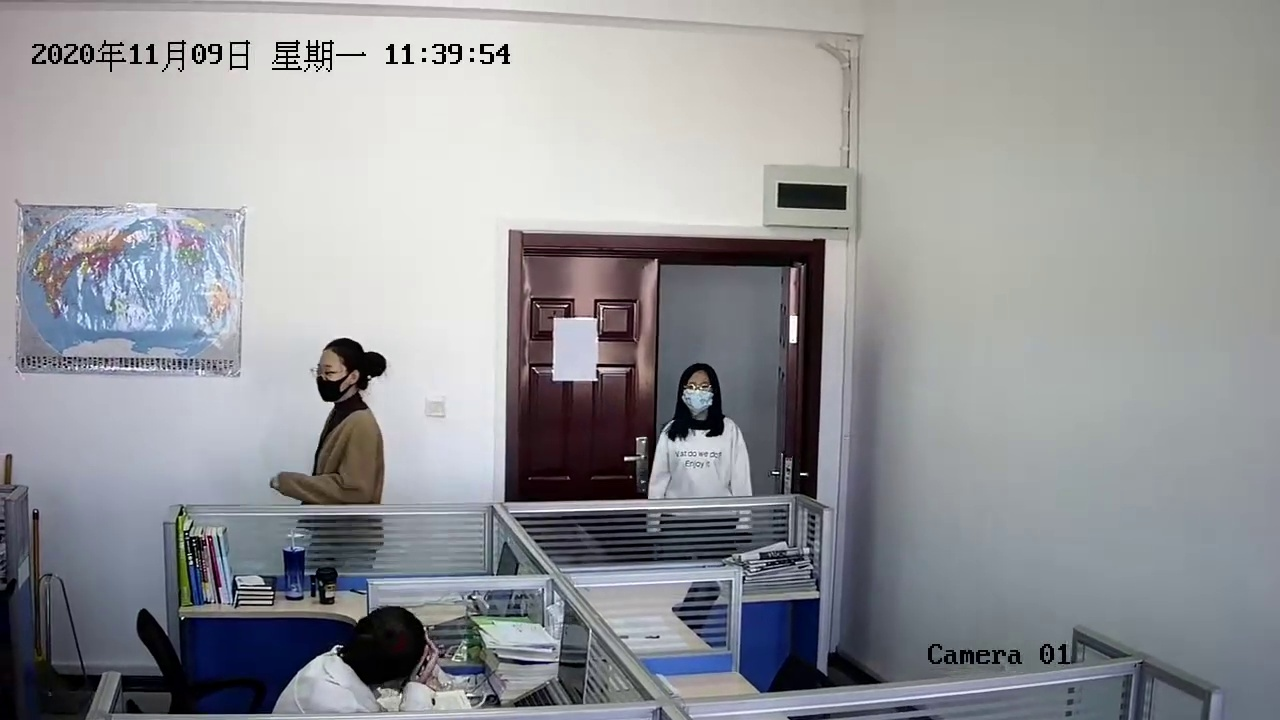mask: (311, 337, 364, 409), (676, 363, 725, 422)
